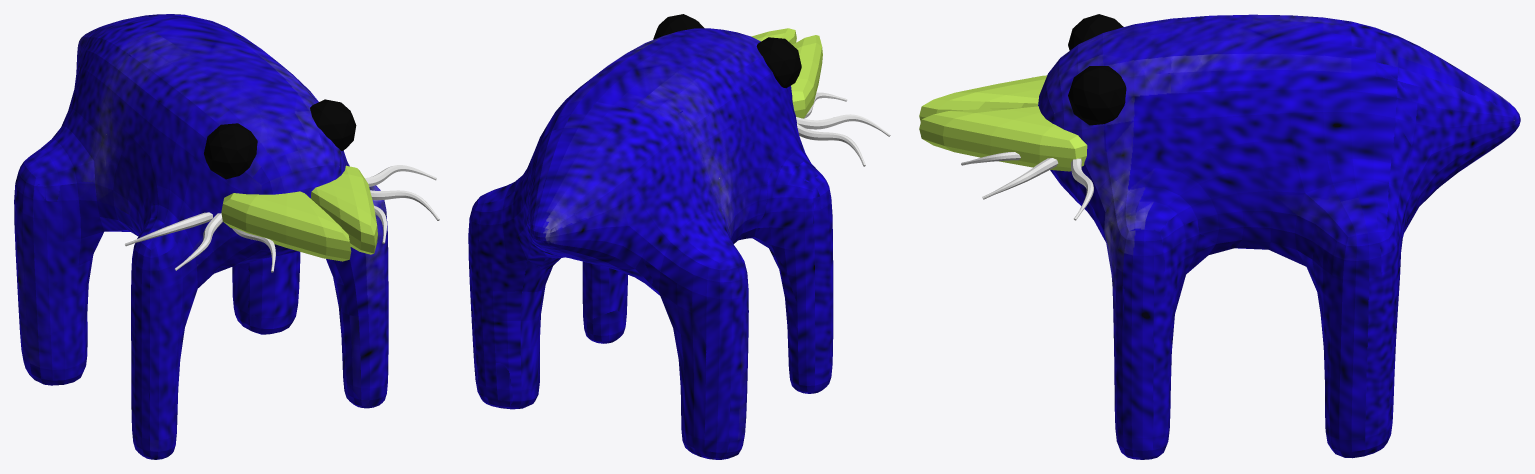
Rendered from ГИР.fbx.
3 views of the same model, side by side, from view 1: azimuth 30°, elevation 25°; view 2: azimuth 150°, elevation 25°; view 3: azimuth 270°, elevation 25° (orthographic). The views are drawn at different scales.
Parts seen in each view (by area): view 1: Cube, Куб.006, Икосфера, Куб.003, Куб.001, Куб.004, Куб; view 2: Cube, Куб.006, Икосфера, Куб.004, Куб.003; view 3: Cube, Куб.006, Икосфера, Куб.001.
Boxes of the visible parts, x1,y1,x2,y2 form: Cube: (14,14,388,459); Куб.006: (221,165,377,261); Икосфера: (204,99,356,179); Куб.003: (125,212,212,246); Куб.001: (370,190,439,220); Куб.004: (175,213,222,270); Куб: (365,165,436,186); Cube: (468,28,833,459); Куб.006: (751,28,822,118); Икосфера: (653,14,801,88); Куб.004: (796,114,890,136); Куб.003: (797,123,865,166); Cube: (1038,14,1520,459); Куб.006: (919,75,1087,171); Икосфера: (1068,14,1126,125); Куб.001: (982,158,1058,199).
Bounding box in the file's own units: 357 × 397 × 584.
